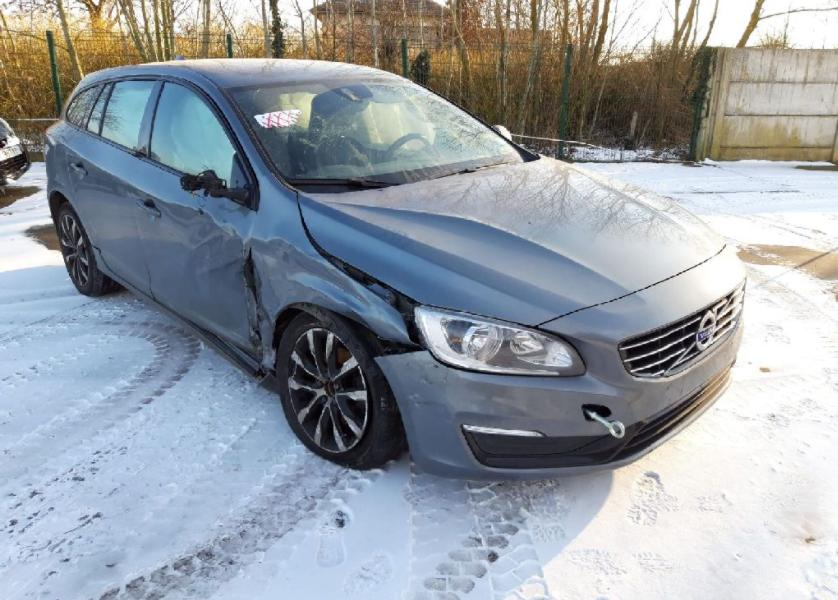Back-door: (61, 68, 162, 300)
Back-wheel: (56, 203, 104, 296)
Back-window: (66, 81, 155, 151)
Fender: (251, 173, 422, 371)
Front-bumper: (377, 245, 749, 481)
Front-door: (131, 70, 264, 361)
Front-wheel: (276, 307, 403, 471)
Front-window: (138, 80, 251, 207)
Grille: (619, 280, 746, 378)
Headlight: (416, 305, 586, 376)
Hood: (299, 156, 727, 328)
Mirror: (181, 153, 249, 215), (491, 125, 512, 141)
Quarter-panel: (44, 120, 95, 245)
Rocker-panel: (92, 246, 270, 384)
Roof: (141, 59, 411, 88)
Windshield: (224, 78, 539, 193)
